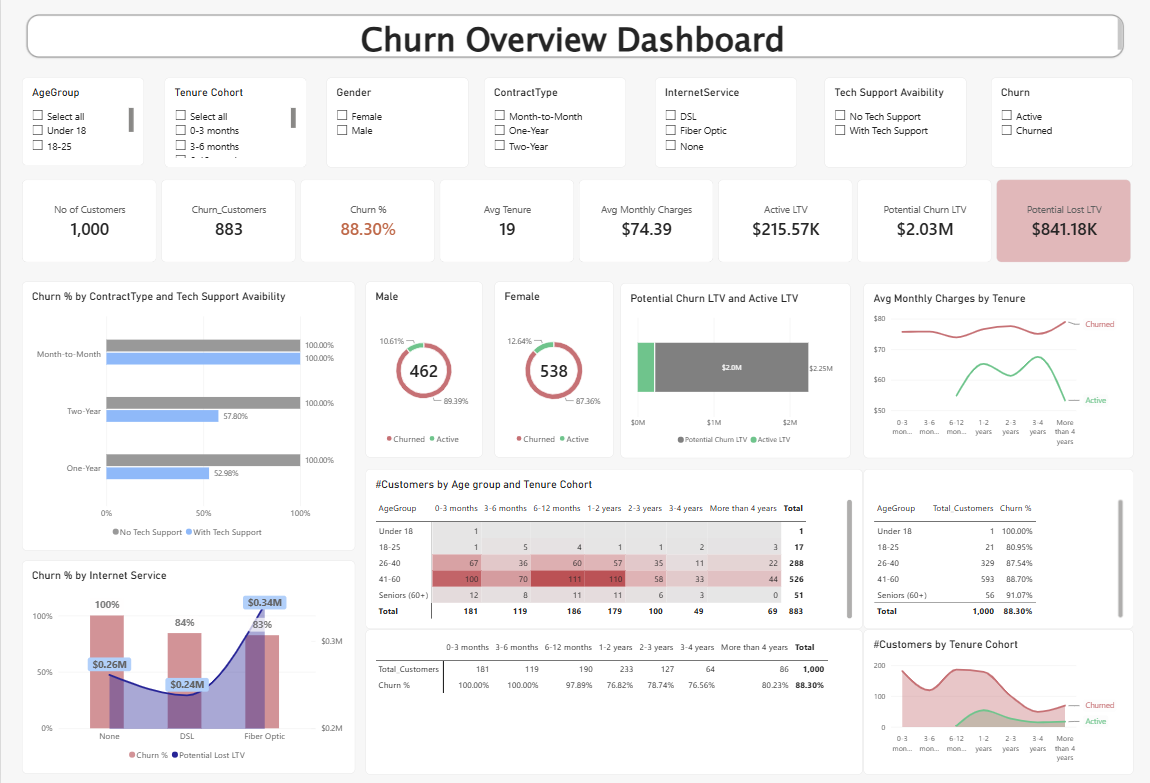

The page's visual inventory and layout, read from the dashboard file:
{"tool":"powerbi","page":{"name":"Churn Overview","canvas":[1920,1320],"ordinal":0},"visuals":[{"type":"cardVisual","fields":{"Data":["Custom_Measures_Calculations.Total_Customers","Custom_Measures_Calculations.Churn_Customers","Custom_Measures_Calculations.Churn %","Avg(customer_churn_data.Tenure)","Avg(customer_churn_data.MonthlyCharges)","Custom_Measures_Calculations.Active LTV","Custom_Measures_Calculations.Potential Lost LTV_","Custom_Measures_Calculations.PREDICTVE LTV"]},"box":[35.3,308.3,1851.7,138.3],"z":0},{"type":"donutChart","title":"Male","fields":{"Category":["customer_churn_data.Churn_"],"Y":["Custom_Measures_Calculations.Total_Customers"]},"box":[608.6,478.3,195,293.3],"z":1000},{"type":"lineClusteredColumnComboChart","title":"Churn % by Internet Service","fields":{"Category":["customer_churn_data.InternetService"],"Y":["Custom_Measures_Calculations.Churn %"],"Y2":["Custom_Measures_Calculations.Potential Lost LTV"]},"box":[35,943.3,555,355],"z":2000},{"type":"pivotTable","title":"#Customers by Age group and Tenure Cohort","fields":{"Columns":["customer_churn_data.Tenure Cohort"],"Rows":["customer_churn_data.AgeGroup"],"Values":["Custom_Measures_Calculations.Churn_Customers"]},"box":[608.3,790,828.3,266.7],"z":3000},{"type":"listSlicer","fields":{"Values":["customer_churn_data.AgeGroup"]},"box":[35,136.7,203.3,146.7],"z":4000},{"type":"listSlicer","fields":{"Values":["customer_churn_data.Tenure Cohort"]},"box":[273.3,136.7,236.7,150],"z":5000},{"type":"tableEx","title":"   ","fields":{"Values":["customer_churn_data.AgeGroup","Custom_Measures_Calculations.Total_Customers","Custom_Measures_Calculations.Churn %"]},"box":[1436.7,790,450,266.7],"z":6000},{"type":"pivotTable","fields":{"Columns":["customer_churn_data.Tenure Cohort"],"Values":["Custom_Measures_Calculations.Total_Customers","Custom_Measures_Calculations.Churn %"]},"box":[606.7,1056.7,828.3,241.7],"z":7000},{"type":"areaChart","title":"#Customers by Tenure Cohort","fields":{"Category":["customer_churn_data.Tenure Cohort"],"Series":["customer_churn_data.Churn_"],"Y":["Custom_Measures_Calculations.Total_Customers"]},"box":[1436.7,1056.7,450,241.7],"z":8000},{"type":"clusteredBarChart","fields":{"Category":["customer_churn_data.ContractType"],"Series":["customer_churn_data.Tech Support Avaibility"],"Y":["Custom_Measures_Calculations.Churn %"]},"box":[35,478.3,555,448.3],"z":9000},{"type":"listSlicer","fields":{"Values":["customer_churn_data.Gender"]},"box":[543.3,136.7,236.7,150],"z":10000},{"type":"listSlicer","fields":{"Values":["customer_churn_data.InternetService"]},"box":[1090,136.7,236.7,150],"z":11000},{"type":"listSlicer","fields":{"Values":["customer_churn_data.ContractType"]},"box":[805,136.7,236.7,150],"z":12000},{"type":"listSlicer","fields":{"Values":["customer_churn_data.Tech Support Avaibility"]},"box":[1371.7,136.7,236.7,150],"z":13000},{"type":"listSlicer","title":"Churn","fields":{"Values":["customer_churn_data.Churn_"]},"box":[1650,136.7,236.7,150],"z":14000},{"type":"donutChart","title":"Female","fields":{"Category":["customer_churn_data.Churn_"],"Y":["Custom_Measures_Calculations.Total_Customers"]},"box":[823.6,478.3,198.3,293.3],"z":15000},{"type":"barChart","fields":{"Y":["Custom_Measures_Calculations.Potential Churn LTV","Custom_Measures_Calculations.Active LTV"]},"box":[1032,480,383.3,291.7],"z":16000},{"type":"lineChart","title":"Avg Monthly Charges by Tenure","fields":{"Category":["customer_churn_data.Tenure Cohort"],"Series":["customer_churn_data.Churn_"],"Y":["Avg(customer_churn_data.MonthlyCharges)"]},"box":[1437,480,450,291.7],"z":17000},{"type":"textbox","box":[43.3,31.7,1828.3,71.7],"z":17001}]}

Visuals, with their boxes in screenshot pixels (x1, y1, x2, y2), scaled from the page's 1920x1320 canvas onto the 1150x783 screenshot:
cardVisual - Custom_Measures_Calculations.Total_Customers x Custom_Measures_Calculations.Churn_Customers: [x1=21, y1=183, x2=1130, y2=265]
"Male" donutChart: [x1=365, y1=284, x2=481, y2=458]
"Churn % by Internet Service" lineClusteredColumnComboChart: [x1=21, y1=560, x2=353, y2=770]
"#Customers by Age group and Tenure Cohort" pivotTable: [x1=364, y1=469, x2=860, y2=627]
listSlicer - customer_churn_data.AgeGroup: [x1=21, y1=81, x2=143, y2=168]
listSlicer - customer_churn_data.Tenure Cohort: [x1=164, y1=81, x2=305, y2=170]
"   " tableEx: [x1=861, y1=469, x2=1130, y2=627]
pivotTable - customer_churn_data.Tenure Cohort x Custom_Measures_Calculations.Total_Customers: [x1=363, y1=627, x2=860, y2=770]
"#Customers by Tenure Cohort" areaChart: [x1=861, y1=627, x2=1130, y2=770]
clusteredBarChart - customer_churn_data.ContractType x customer_churn_data.Tech Support Avaibility: [x1=21, y1=284, x2=353, y2=550]
listSlicer - customer_churn_data.Gender: [x1=325, y1=81, x2=467, y2=170]
listSlicer - customer_churn_data.InternetService: [x1=653, y1=81, x2=795, y2=170]
listSlicer - customer_churn_data.ContractType: [x1=482, y1=81, x2=624, y2=170]
listSlicer - customer_churn_data.Tech Support Avaibility: [x1=822, y1=81, x2=963, y2=170]
"Churn" listSlicer: [x1=988, y1=81, x2=1130, y2=170]
"Female" donutChart: [x1=493, y1=284, x2=612, y2=458]
barChart - Custom_Measures_Calculations.Potential Churn LTV x Custom_Measures_Calculations.Active LTV: [x1=618, y1=285, x2=848, y2=458]
"Avg Monthly Charges by Tenure" lineChart: [x1=861, y1=285, x2=1130, y2=458]
textbox: [x1=26, y1=19, x2=1121, y2=61]
